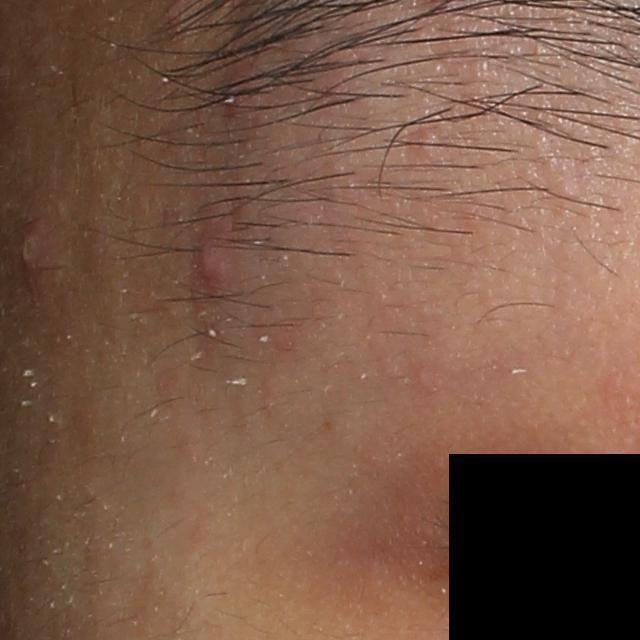papule: (194, 231, 234, 285)
